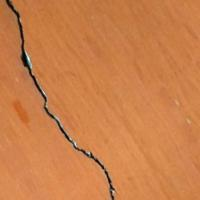crack: (0, 0, 117, 198)
